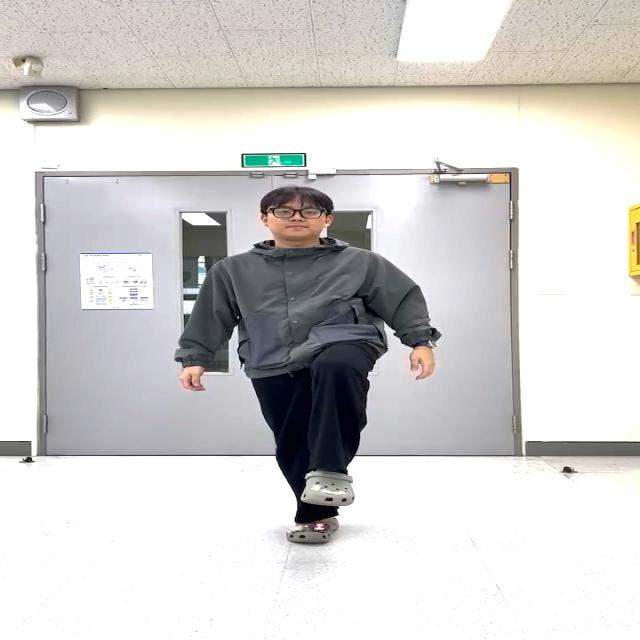leg: (307, 329, 375, 511)
